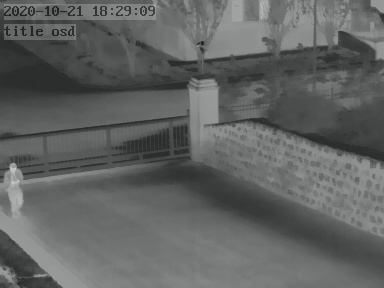person: (2, 161, 25, 215)
